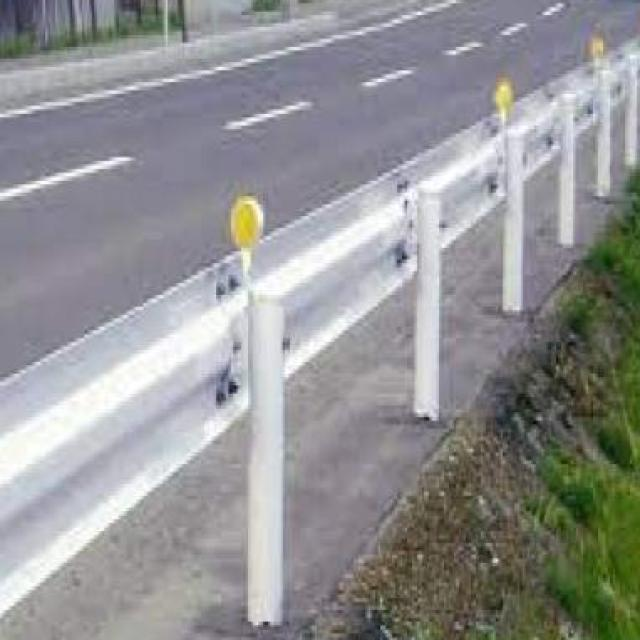Guard rail: (0, 10, 640, 640)
